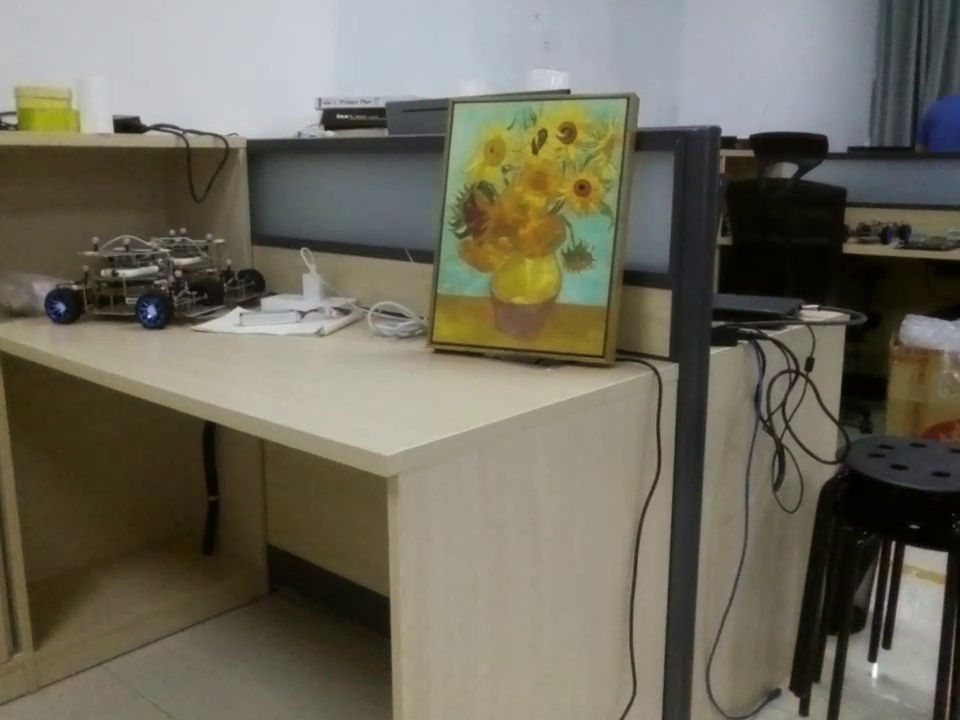painting: (430, 97, 640, 361)
